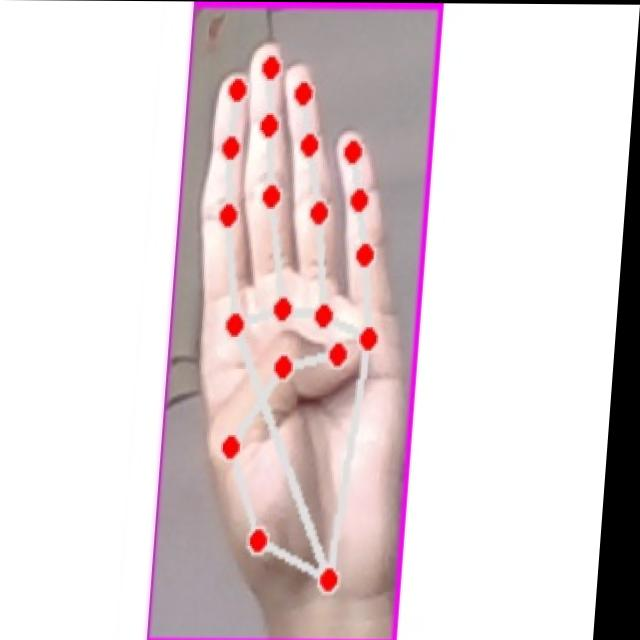B: (176, 33, 427, 610)
